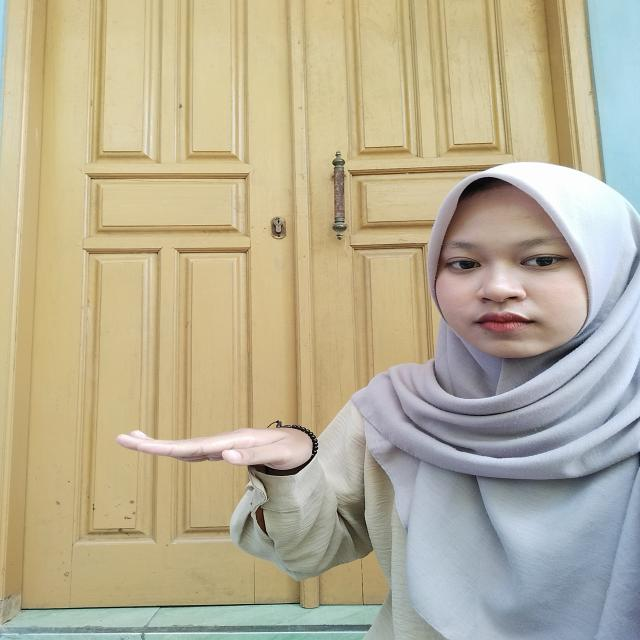adik: (102, 411, 340, 520)
